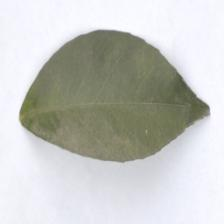healthy: (18, 29, 213, 167)
